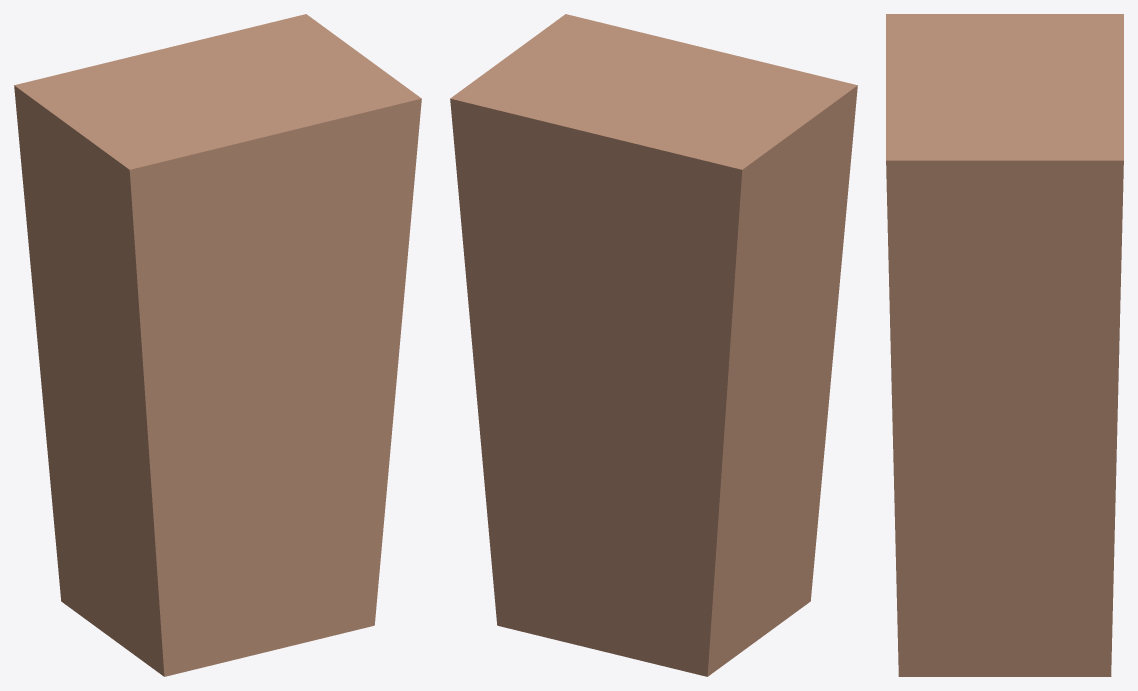
The model's file is wk_buck_lean_hand_v01.glb.
3 views of the same model, side by side, from view 1: azimuth 30°, elevation 25°; view 2: azimuth 150°, elevation 25°; view 3: azimuth 270°, elevation 25° (orthographic). The views are drawn at different scales.
Parts seen in each view (by area): view 1: GEO_Hand; view 2: GEO_Hand; view 3: GEO_Hand.
Boxes of the visible parts, x1,y1,x2,y2 form: GEO_Hand: (14, 14, 421, 676); GEO_Hand: (450, 14, 857, 676); GEO_Hand: (886, 14, 1123, 676).
Size of the model in its own units: 0.085 by 0.145 by 0.0582.
